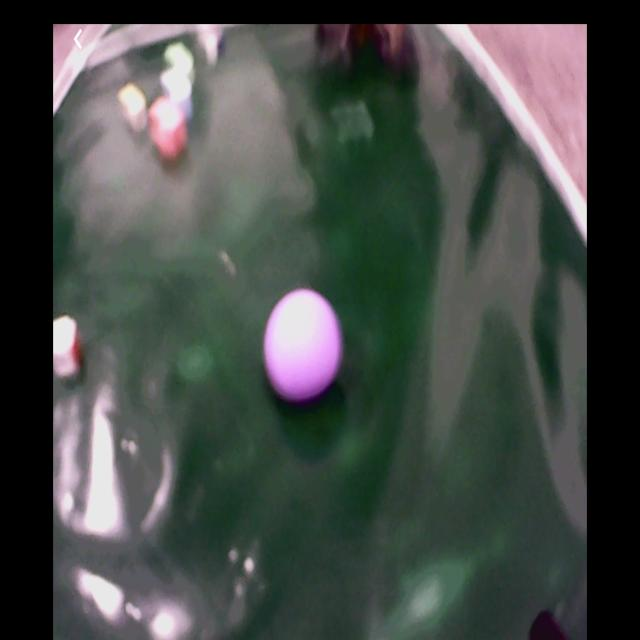ball: (266, 290, 341, 399)
